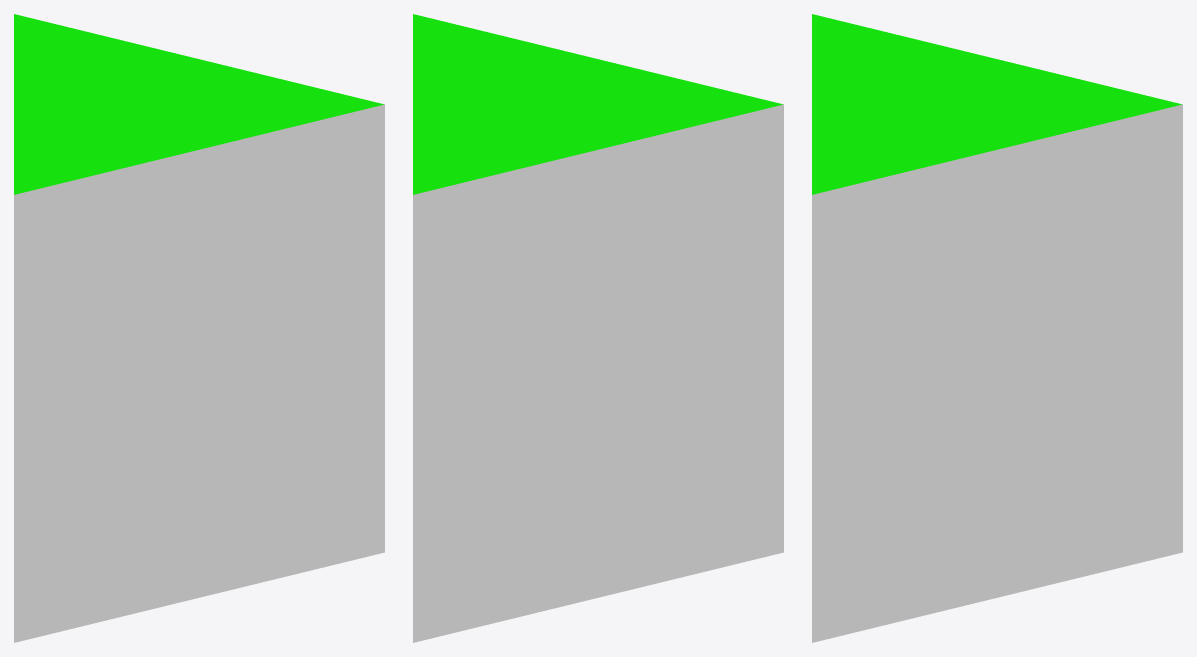
Rendered from TriangleObjectWithColor.fbx.
The picture shows the model from 3 angles, left to right: view 1: azimuth 30°, elevation 25°; view 2: azimuth 150°, elevation 25°; view 3: azimuth 270°, elevation 25°; orthographic projection.
Visible parts, largest first — view 1: Triangle; view 2: Triangle; view 3: Triangle.
Part boxes in pixels (bbox=[...]): Triangle: bbox=[14, 14, 384, 642]; Triangle: bbox=[413, 14, 783, 642]; Triangle: bbox=[812, 14, 1182, 642].
Bounding box in the file's own units: 173 × 200 × 150.
Materials: 1 (1 with a texture image).
